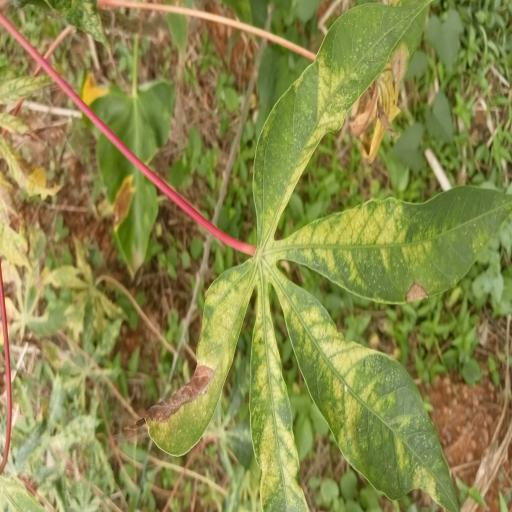Cassava_Brown_Leaf_Spot: (122, 0, 512, 512)
